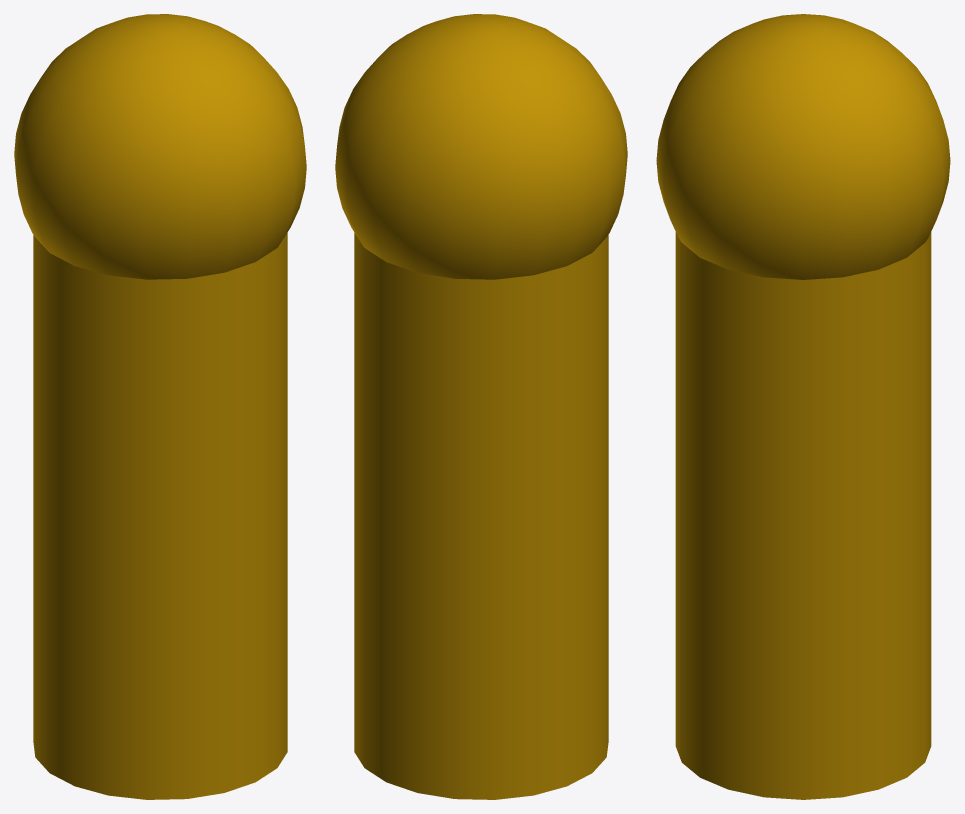
The model's file is bullet.fbx.
3 views of the same model, side by side, from view 1: azimuth 30°, elevation 25°; view 2: azimuth 150°, elevation 25°; view 3: azimuth 270°, elevation 25° (orthographic).
Parts seen in each view (by area): view 1: pCylinder2, pSphere2; view 2: pCylinder2, pSphere2; view 3: pCylinder2, pSphere2.
Boxes of the visible parts, x1,y1,x2,y2 form: pCylinder2: (33, 232, 287, 799); pSphere2: (14, 14, 306, 279); pCylinder2: (354, 232, 608, 799); pSphere2: (335, 14, 627, 279); pCylinder2: (675, 232, 931, 799); pSphere2: (656, 14, 950, 279).
Bounding box in the file's own units: 2 × 5.39 × 2.
